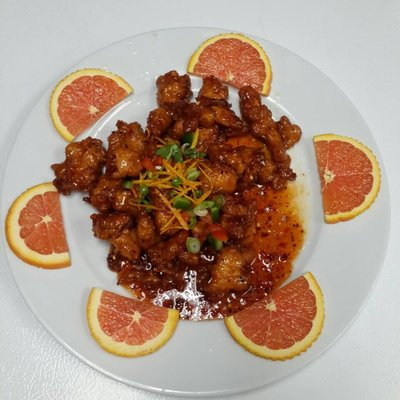taco: (224, 271, 325, 361), (86, 287, 180, 359), (49, 67, 134, 144), (312, 133, 382, 224), (5, 181, 71, 269)
